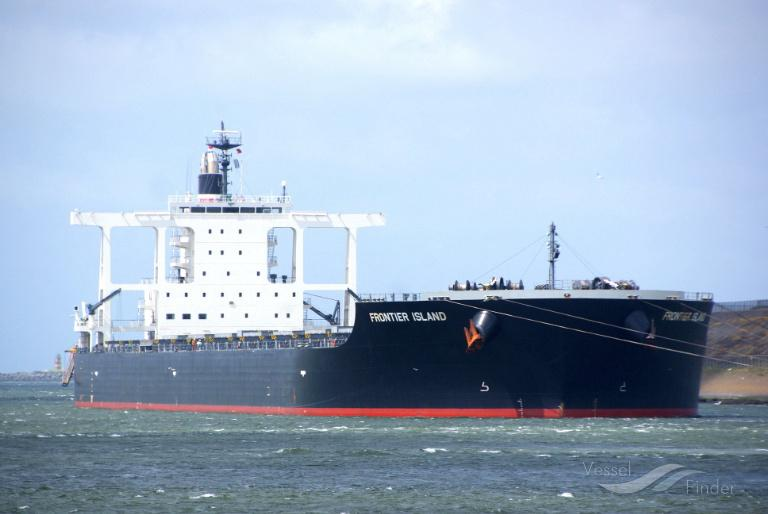OCR: (359, 306, 456, 331)
